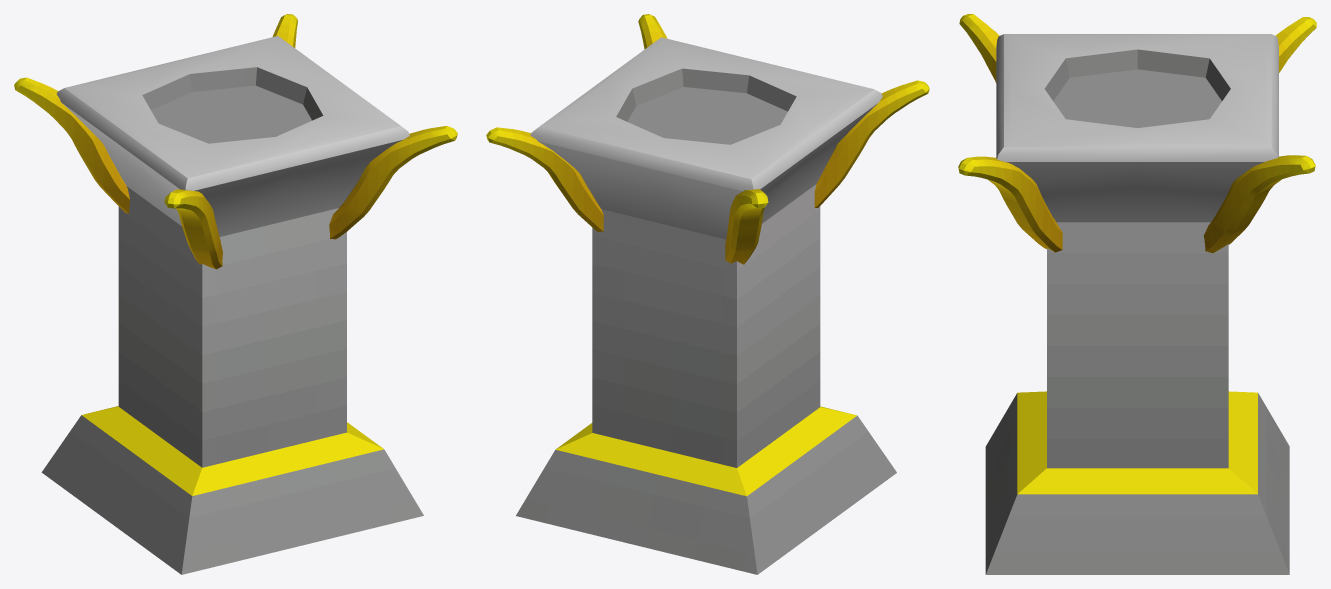
The model's file is altar_day.fbx.
3 views of the same model, side by side, from view 1: azimuth 30°, elevation 25°; view 2: azimuth 150°, elevation 25°; view 3: azimuth 270°, elevation 25° (orthographic). The views are drawn at different scales.
Visible parts, largest first — view 1: Cube.003, Cube.001; view 2: Cube.003, Cube.001; view 3: Cube.003, Cube.001.
Part boxes in pixels (x1,y1,x2,y2): Cube.003: (41, 36, 423, 574); Cube.001: (14, 14, 457, 269); Cube.003: (516, 37, 896, 574); Cube.001: (486, 14, 929, 264); Cube.003: (985, 34, 1289, 574); Cube.001: (958, 14, 1316, 253).
Size of the model in its own units: 301 by 389 by 298.
